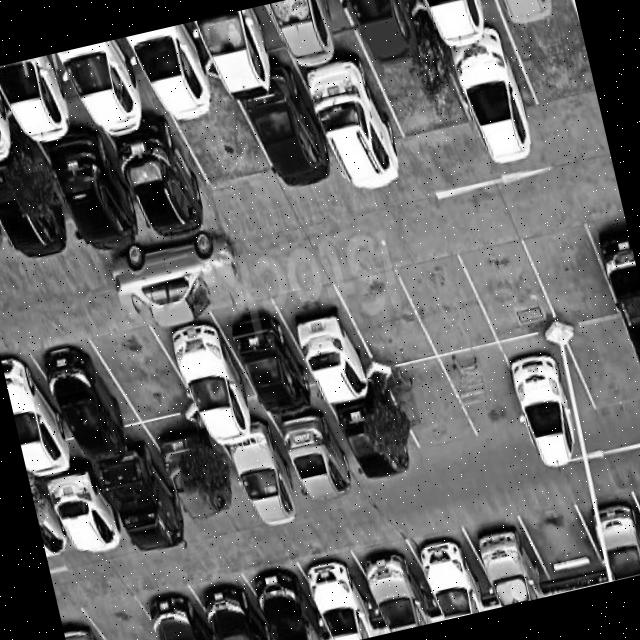Car: (302, 49, 409, 202), (40, 123, 146, 273), (436, 38, 539, 176), (22, 334, 122, 476), (278, 286, 384, 414), (107, 20, 220, 136), (93, 436, 189, 568), (113, 116, 209, 246), (38, 36, 148, 149), (217, 300, 310, 430), (162, 314, 248, 454), (0, 344, 78, 488), (240, 74, 330, 198), (152, 422, 248, 538), (33, 467, 133, 578), (0, 145, 82, 279), (582, 211, 640, 397), (216, 426, 305, 546), (175, 6, 275, 110), (326, 389, 418, 497), (504, 346, 584, 467), (266, 405, 350, 515), (347, 536, 435, 638), (0, 51, 81, 158), (411, 526, 499, 623), (319, 0, 426, 77), (237, 556, 322, 640), (291, 552, 371, 640), (466, 522, 545, 610), (185, 566, 278, 640), (386, 0, 486, 67), (248, 0, 336, 73), (28, 470, 70, 578), (583, 505, 640, 584), (137, 586, 211, 640), (465, 0, 559, 38), (60, 606, 128, 640), (0, 162, 11, 275)
Free: (382, 242, 507, 374), (448, 226, 566, 361), (319, 258, 435, 390), (362, 44, 471, 180), (514, 212, 624, 343), (84, 315, 195, 437), (168, 102, 286, 216), (503, 5, 602, 136), (432, 326, 526, 451), (379, 345, 477, 464), (552, 296, 640, 425), (508, 488, 606, 594), (73, 573, 169, 640)
